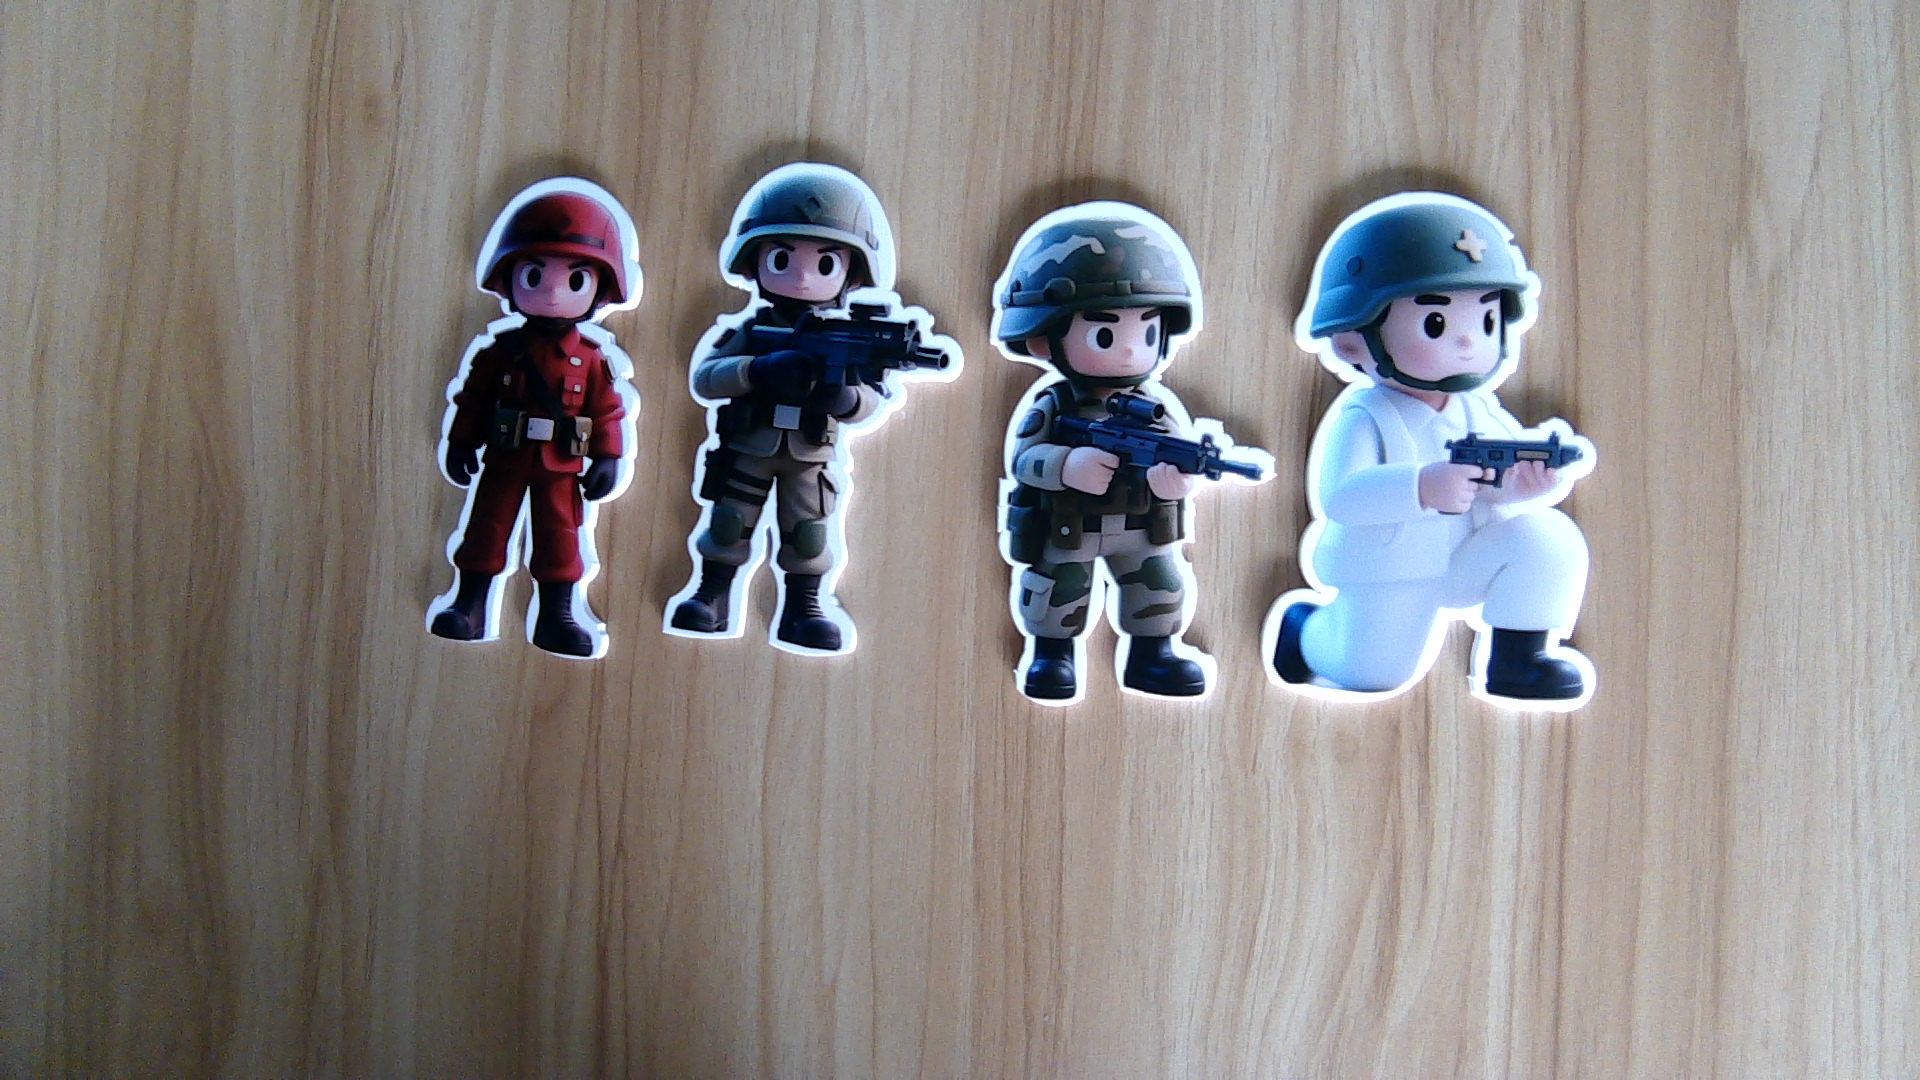人质: (1259, 390, 1601, 717)
友军: (654, 301, 971, 654), (989, 375, 1241, 711)
敌人1: (419, 306, 638, 669)
